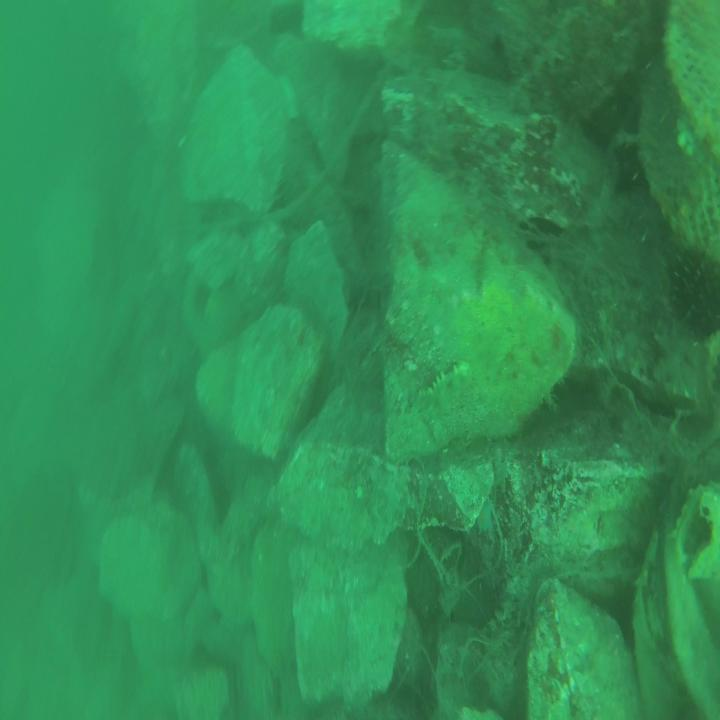echinus: (667, 246, 720, 340)
holothurian: (520, 153, 586, 233), (417, 362, 469, 414)
